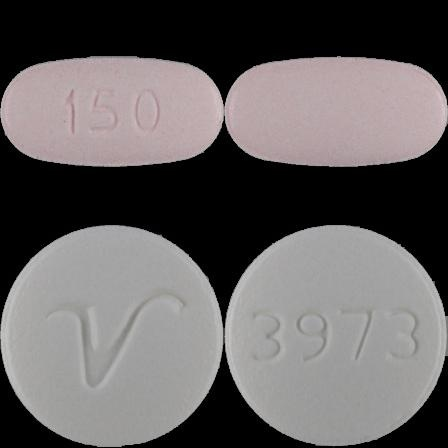63187-096: (0, 0, 224, 224)
